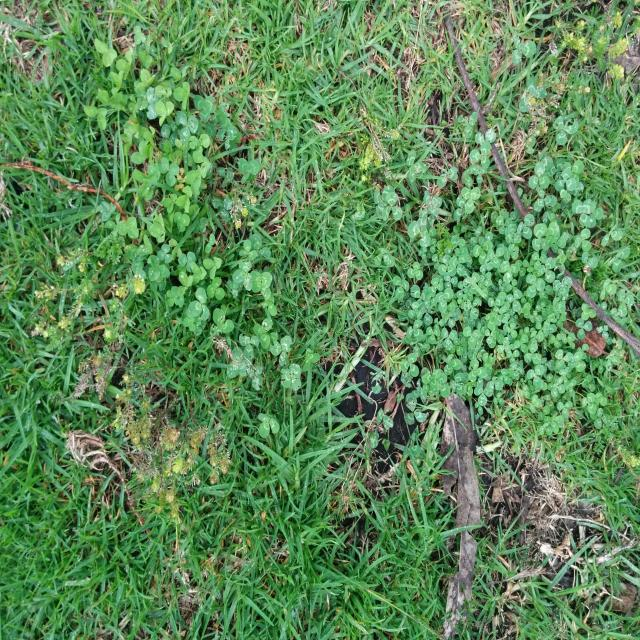Four Leaf Clover: (250, 270, 272, 298), (280, 363, 301, 391)
